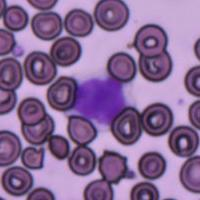M: (73, 73, 133, 127)
